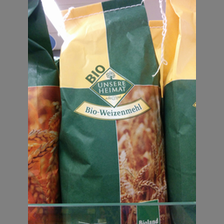flour: (58, 1, 169, 224)
